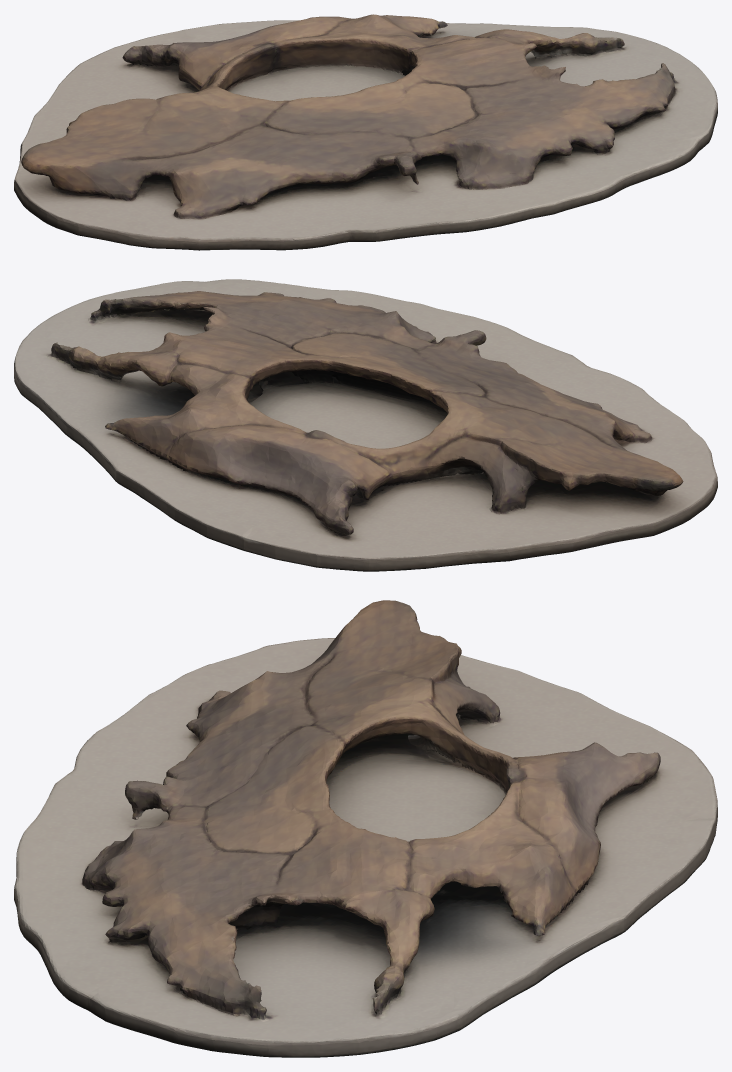
3 views of the same model, one above another, from view 1: azimuth 30°, elevation 25°; view 2: azimuth 150°, elevation 25°; view 3: azimuth 270°, elevation 25° (orthographic). The views are drawn at different scales.
Parts seen in each view (by area): view 1: world; view 2: world; view 3: world.
Boxes of the visible parts, x1,y1,x2,y2 form: world: [14, 14, 717, 250]; world: [14, 279, 717, 571]; world: [14, 600, 717, 1057].
Size of the model in its own units: 1 by 0.0861 by 0.7344.
1 material, 1 textured.
